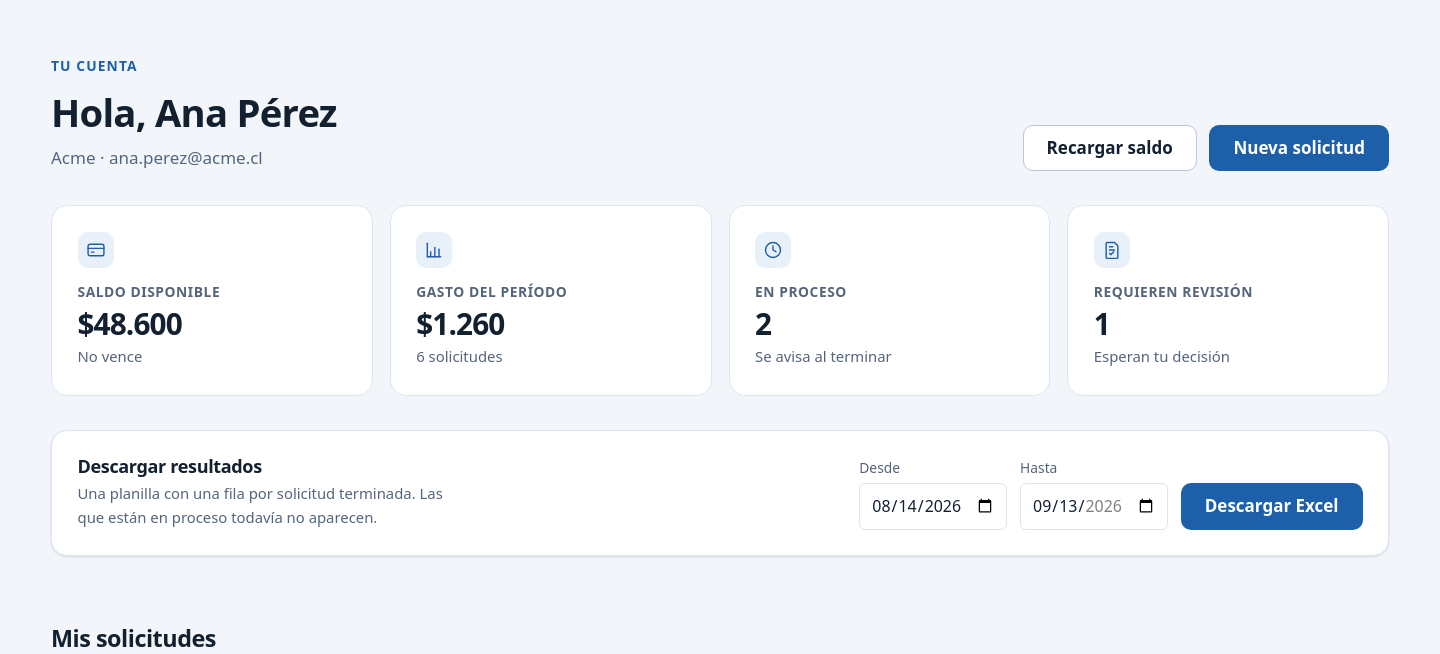
PanelComponent › descarga de la planilla › avisa de un fallo cualquiera sin culpar al usuario
The width and height of the screenshot is (1440, 654).
Click the button "Descargar Excel". click: (1272, 506)
box: x1=1181 y1=483 x2=1362 y2=530
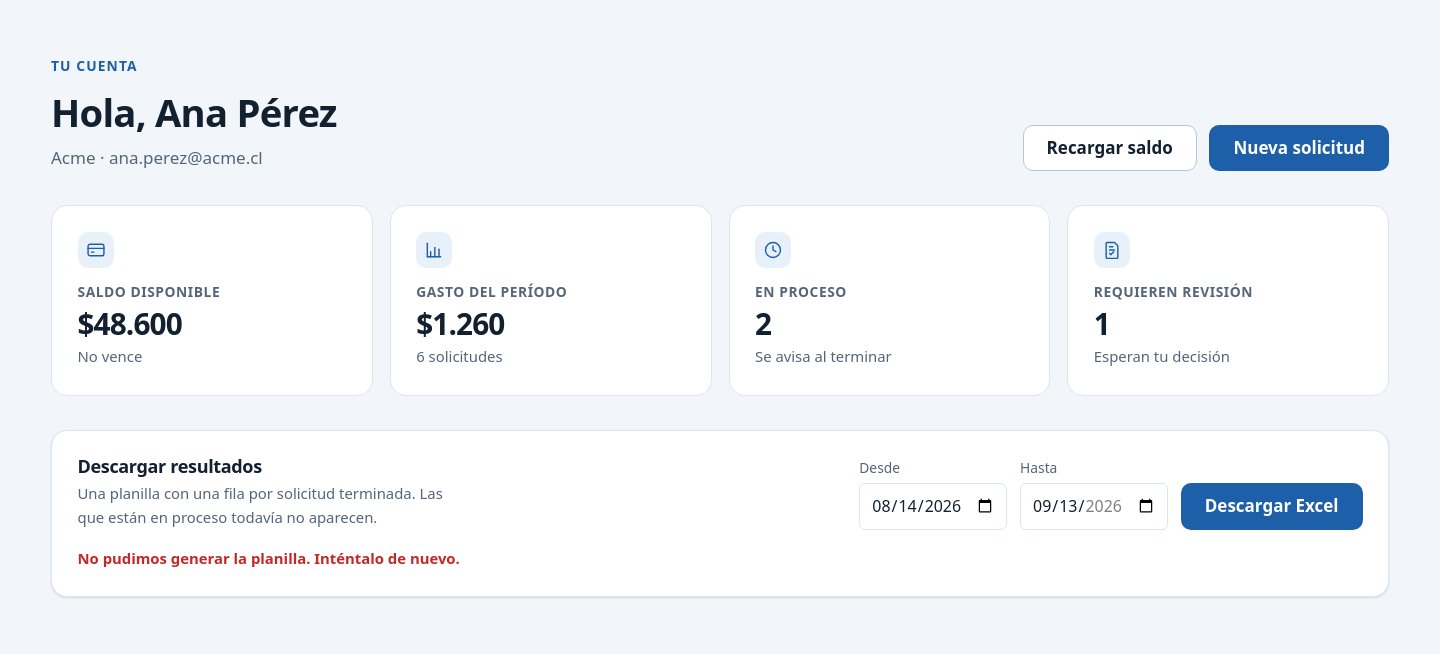
Expected: the message with class "descarga__error" shows "No pudimos generar la planilla", x1=78 y1=548 x2=460 y2=568
